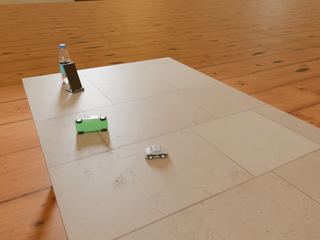bottle: (59, 44, 71, 83)
phone: (63, 63, 82, 92)
toy_car: (75, 116, 108, 134), (144, 146, 168, 159)
